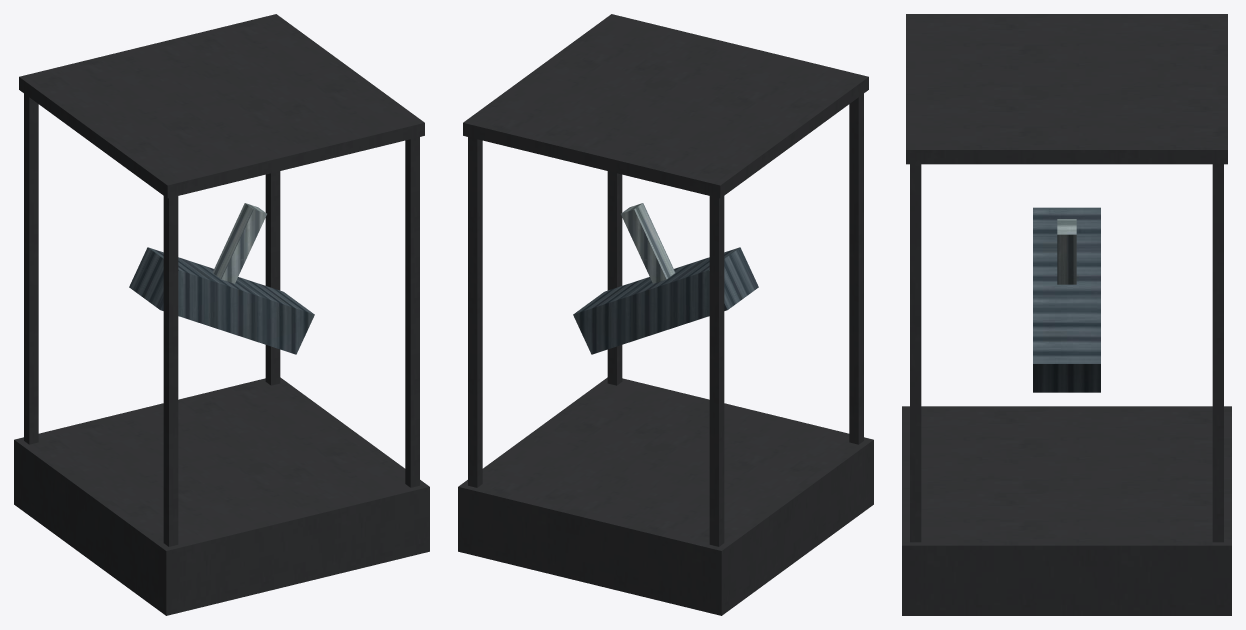
Rendered from vault_case_ship_01.glb.
3 renders of one model, left to right at view 1: azimuth 30°, elevation 25°; view 2: azimuth 150°, elevation 25°; view 3: azimuth 270°, elevation 25°, orthographic. The views are drawn at different scales.
Visible parts, largest first — view 1: vault_case_ship_01; view 2: vault_case_ship_01; view 3: vault_case_ship_01.
Part boxes in pixels (x1,y1,x2,y2): vault_case_ship_01: [14, 14, 429, 615]; vault_case_ship_01: [458, 14, 873, 615]; vault_case_ship_01: [902, 14, 1231, 615].
Bounding box in the file's own units: 1.7 × 2.64 × 1.7.
3 materials, 3 textured.
